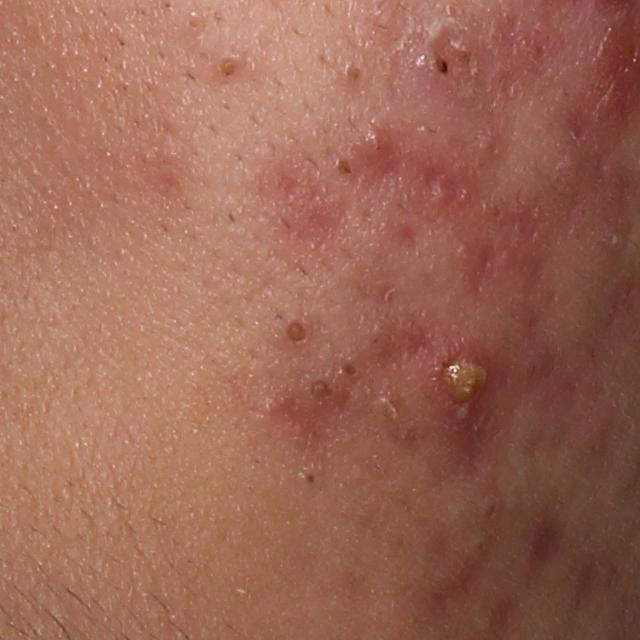atrophic_scar: (457, 235, 509, 297)
comedo: (280, 313, 314, 347), (295, 463, 329, 495), (216, 51, 246, 82), (479, 496, 508, 526), (307, 374, 335, 403), (330, 155, 355, 179), (339, 358, 360, 378)
nodule: (413, 330, 512, 450)
papule: (387, 7, 485, 104), (354, 118, 399, 167)
